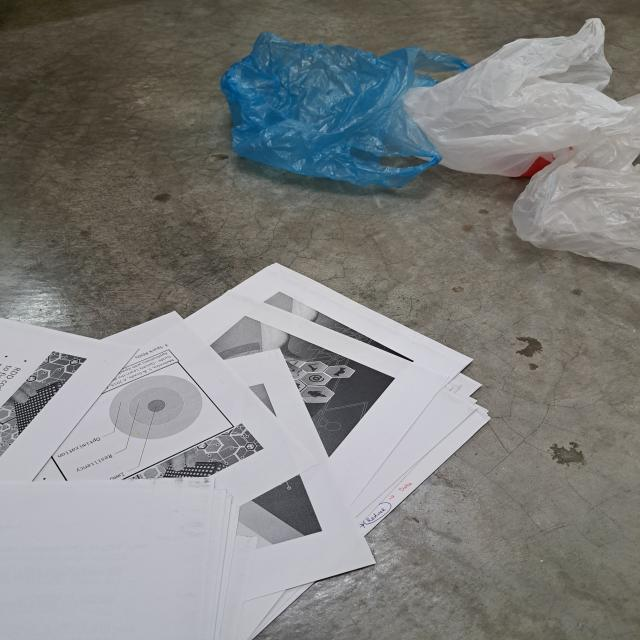paper: (0, 260, 497, 640)
plastic bag: (218, 31, 472, 189), (398, 18, 640, 181), (511, 138, 640, 272)
